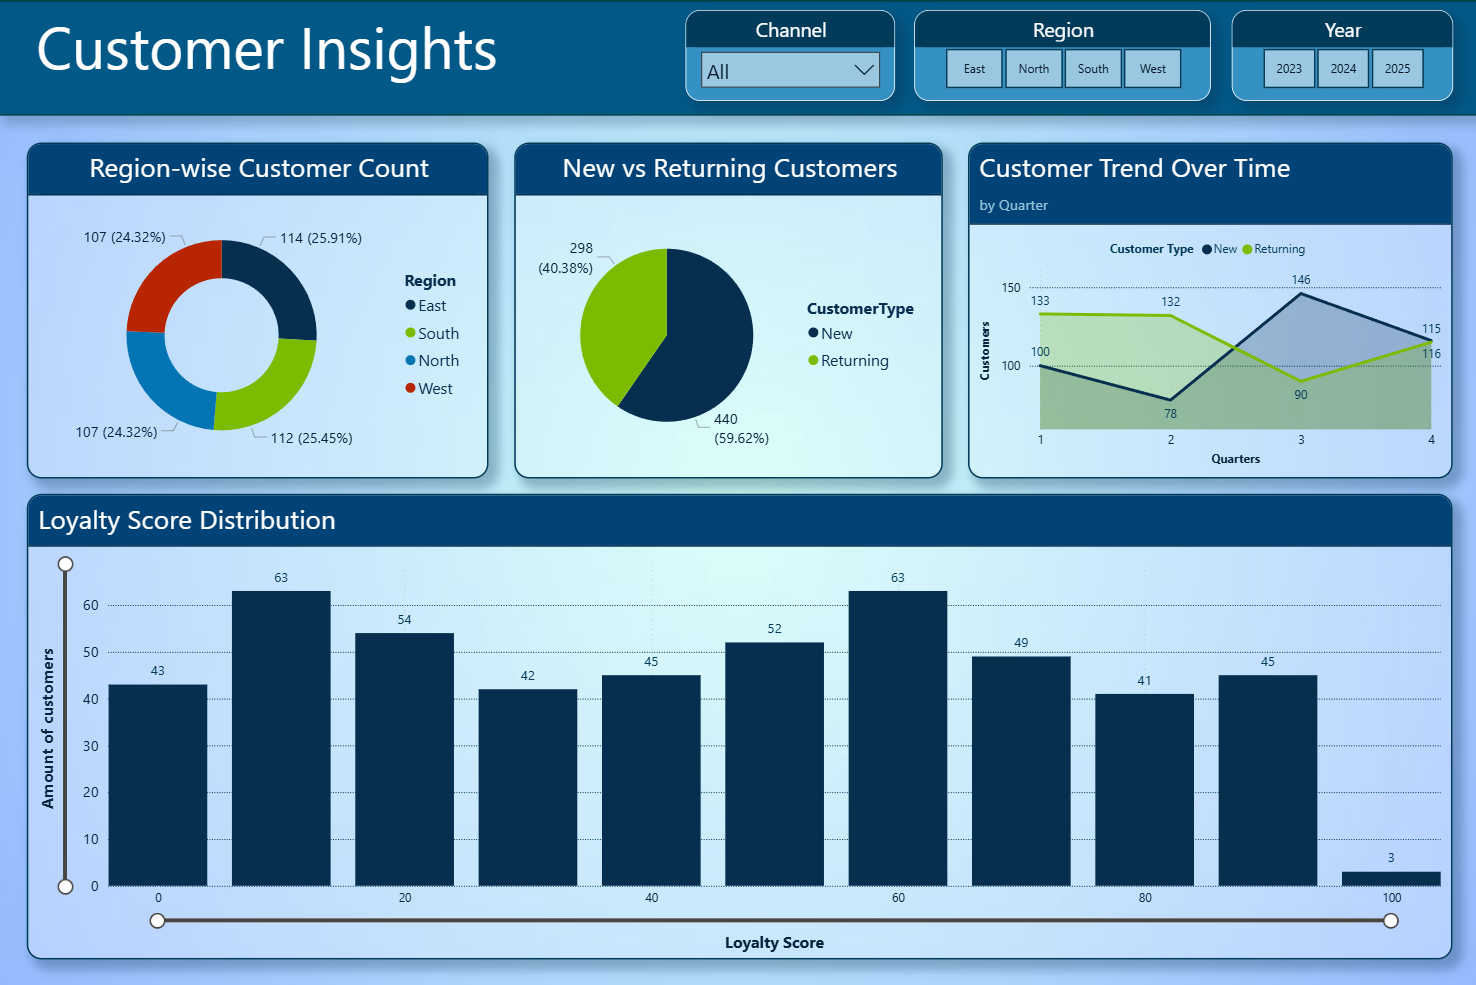

The dashboard page shown, as its layout file describes it:
{"tool":"powerbi","page":{"name":"Customer Insights","canvas":[1500,1000],"ordinal":2},"visuals":[{"type":"textbox","title":"Sales Overview","box":[0,0,1499.7,117.2],"z":0},{"type":"slicer","title":"Region","fields":{"Values":["Customers.Region"]},"box":[927.1,10.3,300.2,92.3],"z":1000},{"type":"slicer","title":"Year","fields":{"Values":["Sales.SaleYear"]},"box":[1247.8,10.3,224.1,92.3],"z":2000},{"type":"pieChart","title":"New vs Returning Customers","fields":{"Category":["Sales.CustomerType"],"Y":["Count(Sales.CustomerID)"]},"box":[522.8,143.5,433.5,339.8],"z":3000},{"type":"donutChart","title":"Region-wise Customer Count","fields":{"Category":["Customers.Region"],"Y":["Count(Sales.CustomerID)"]},"box":[29.3,143.5,467.2,339.8],"z":4000},{"type":"clusteredColumnChart","title":"Loyalty Score Distribution","fields":{"Category":["Customers.LoyaltyScore (bins)"],"Y":["Count(Customers.CustomerID)"]},"box":[29.3,499.4,1442.6,471.6],"z":5000},{"type":"lineChart","title":"Customer Trend Over Time","fields":{"Category":["Sales.SaleQuarter"],"Y":["Count(Sales.CustomerID)"],"Series":["Sales.CustomerType"]},"box":[981.3,143.5,490.6,339.8],"z":6000},{"type":"slicer","title":"Channel","fields":{"Values":["Sales.SalesChannel"]},"box":[695.7,10.3,212.4,92.3],"z":7000}]}

Visuals, with their boxes in screenshot pixels (x1, y1, x2, y2), scaled from the page's 1500x1000 canvas onto the 1476x985 screenshot:
"Sales Overview" textbox: region(0, 0, 1475, 115)
"Region" slicer: region(912, 10, 1208, 101)
"Year" slicer: region(1228, 10, 1448, 101)
"New vs Returning Customers" pieChart: region(514, 141, 941, 476)
"Region-wise Customer Count" donutChart: region(29, 141, 489, 476)
"Loyalty Score Distribution" clusteredColumnChart: region(29, 492, 1448, 956)
"Customer Trend Over Time" lineChart: region(966, 141, 1448, 476)
"Channel" slicer: region(685, 10, 894, 101)
